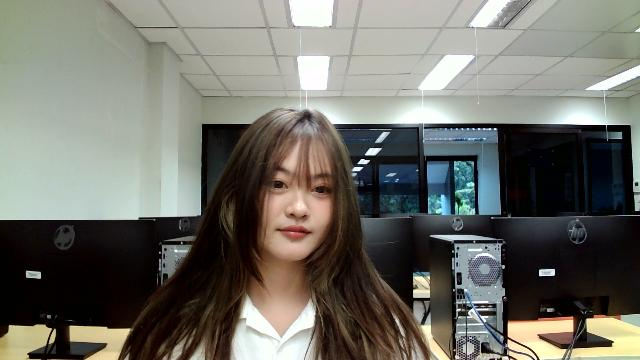fokus: (229, 94, 346, 262)
